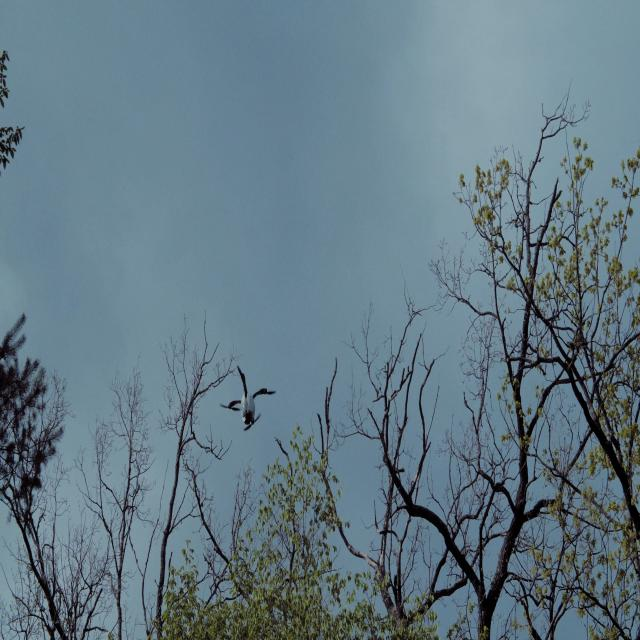Drone: (226, 354, 280, 434)
